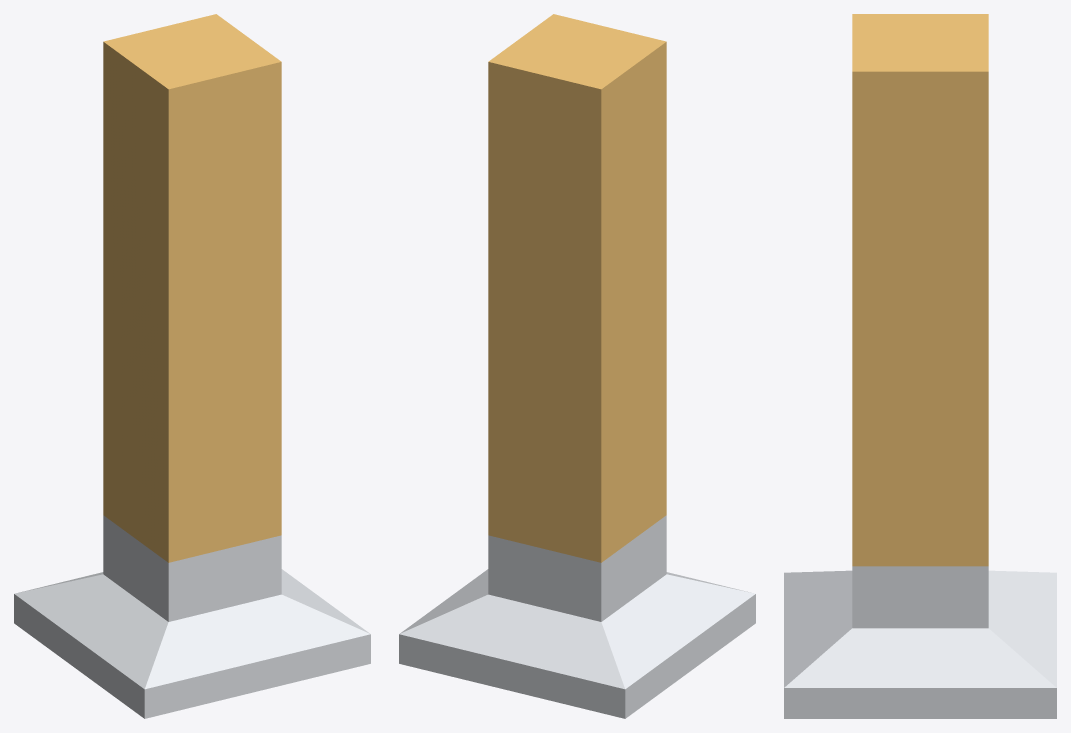
Rendered from pipe_supportHigh.glb.
3 views of the same model, side by side, from view 1: azimuth 30°, elevation 25°; view 2: azimuth 150°, elevation 25°; view 3: azimuth 270°, elevation 25° (orthographic). The views are drawn at different scales.
Parts seen in each view (by area): view 1: pipe_supportHigh; view 2: pipe_supportHigh; view 3: pipe_supportHigh.
Part boxes in pixels (bbox=[...]): pipe_supportHigh: bbox=[14, 14, 370, 718]; pipe_supportHigh: bbox=[399, 14, 755, 718]; pipe_supportHigh: bbox=[784, 14, 1056, 718].
Size of the model in its own units: 0.4 by 1 by 0.4.
